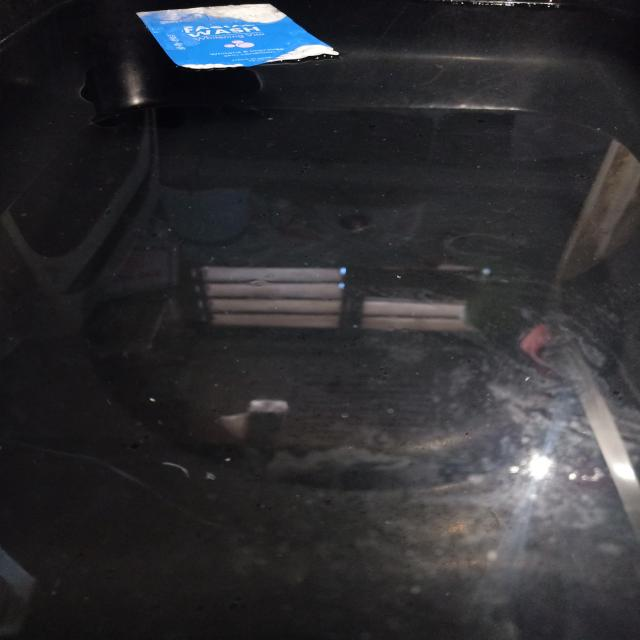Plastic Pouch: (137, 4, 339, 69)
